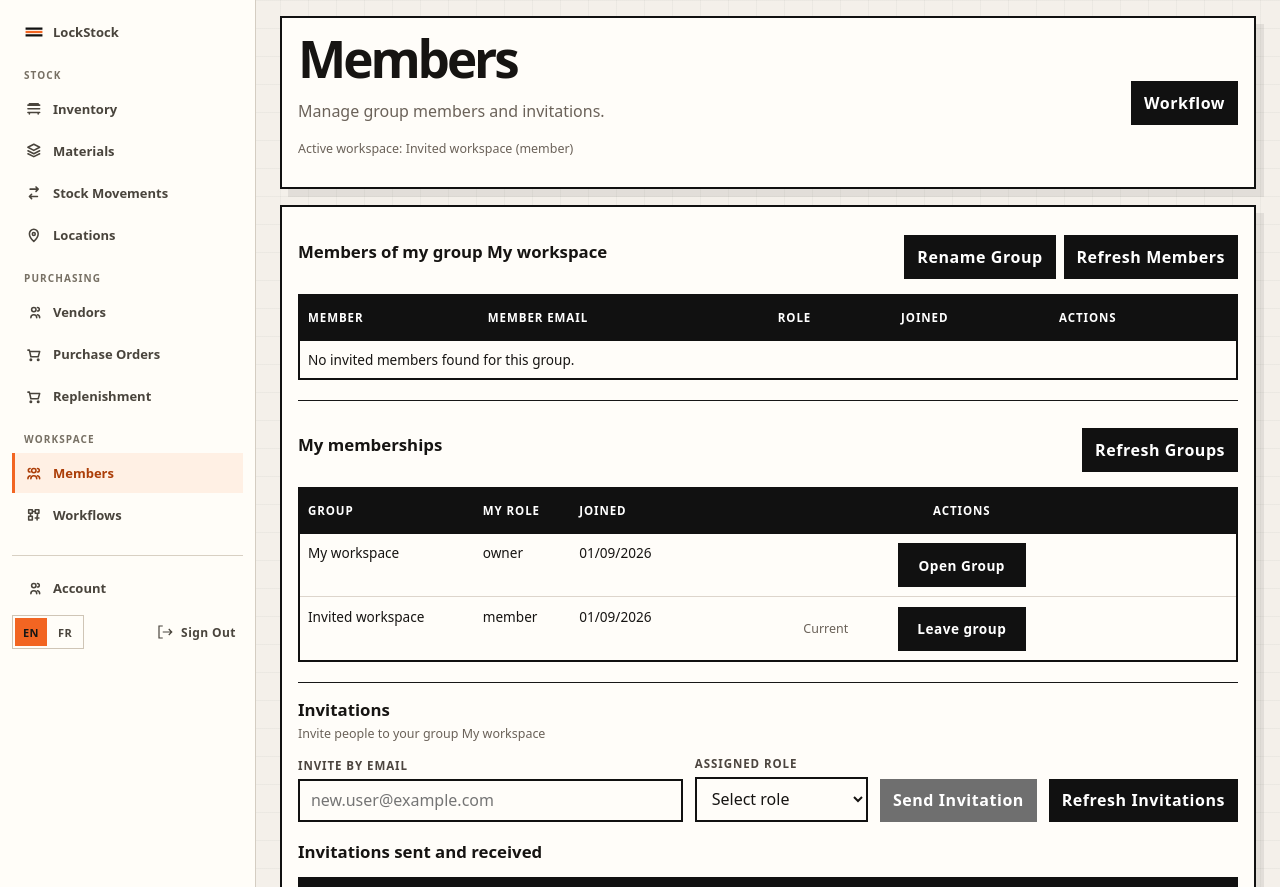
Test: lets a non-owner leave the active group and returns to their own workspace
Click the button "Leave group" at (962, 629), box [898, 607, 1026, 651]
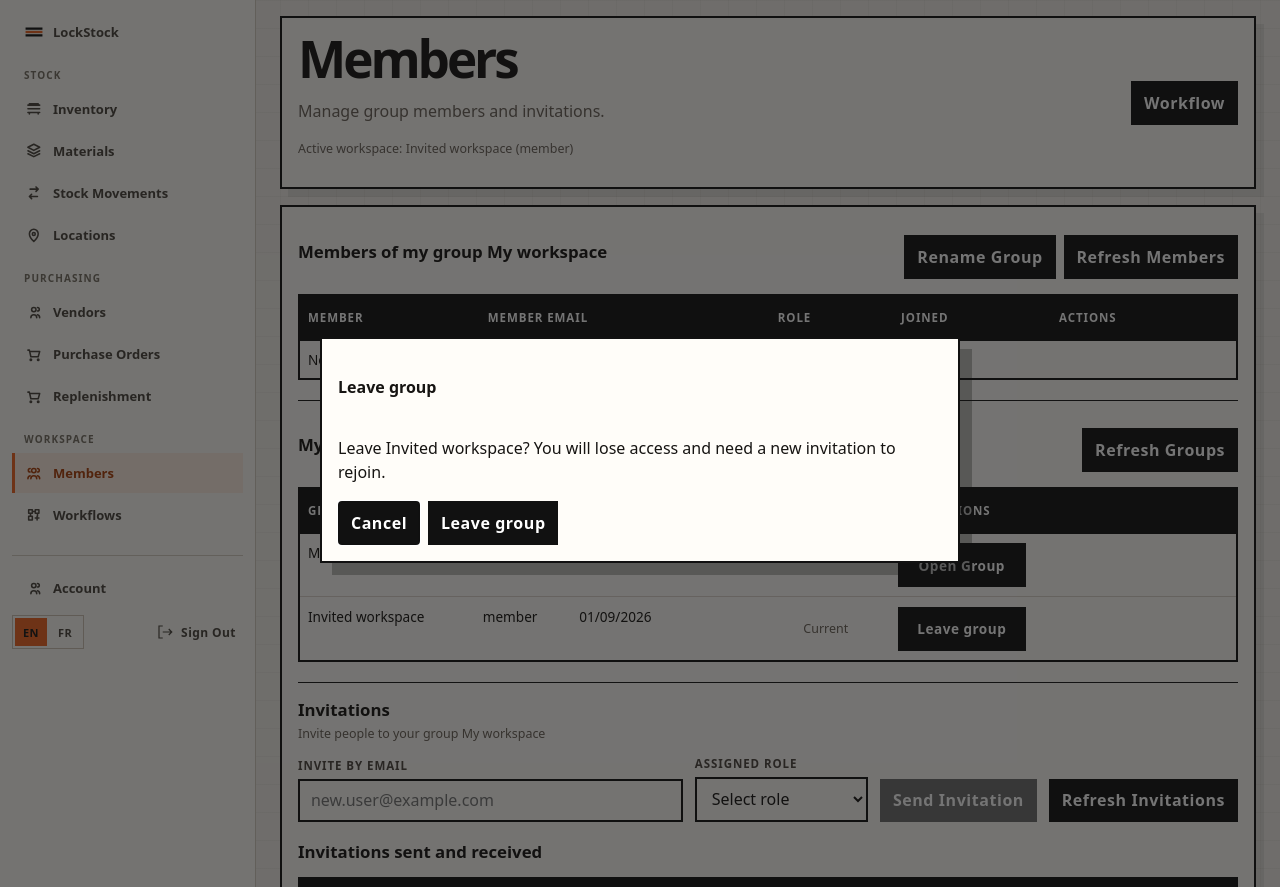
Click the button "Leave group" at (493, 523), box [428, 501, 558, 545]
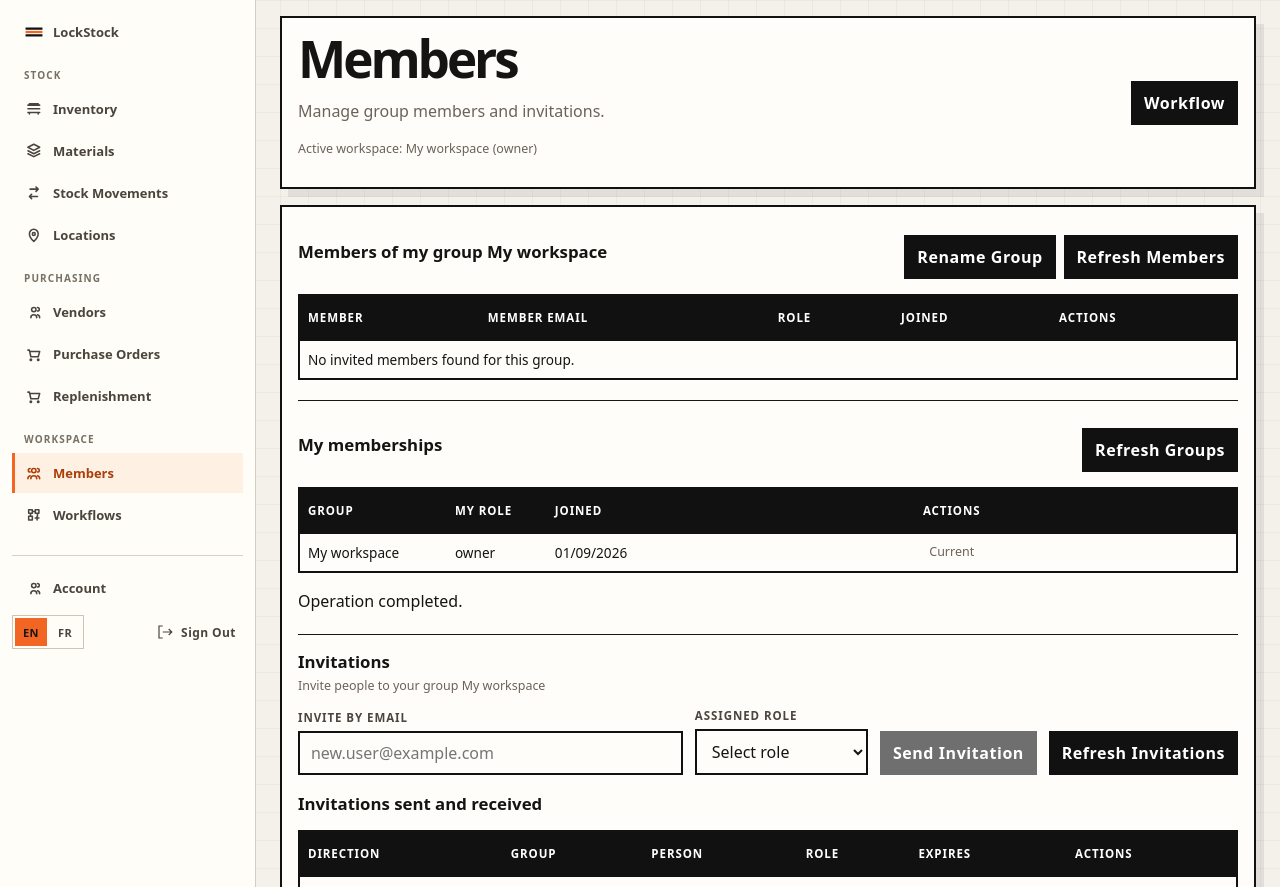
Check: the heading "Leave group" is gone
